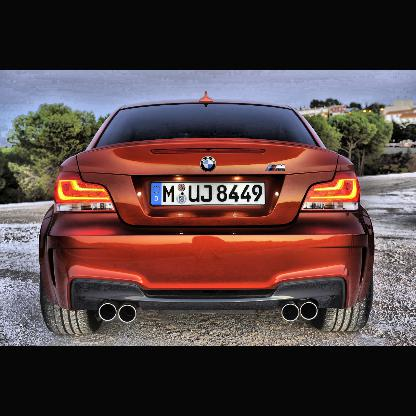BMW 1 Series Coupe 2012: (40, 88, 380, 339)
